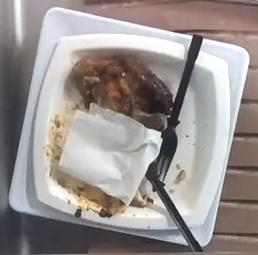chicken: (64, 49, 184, 130)
